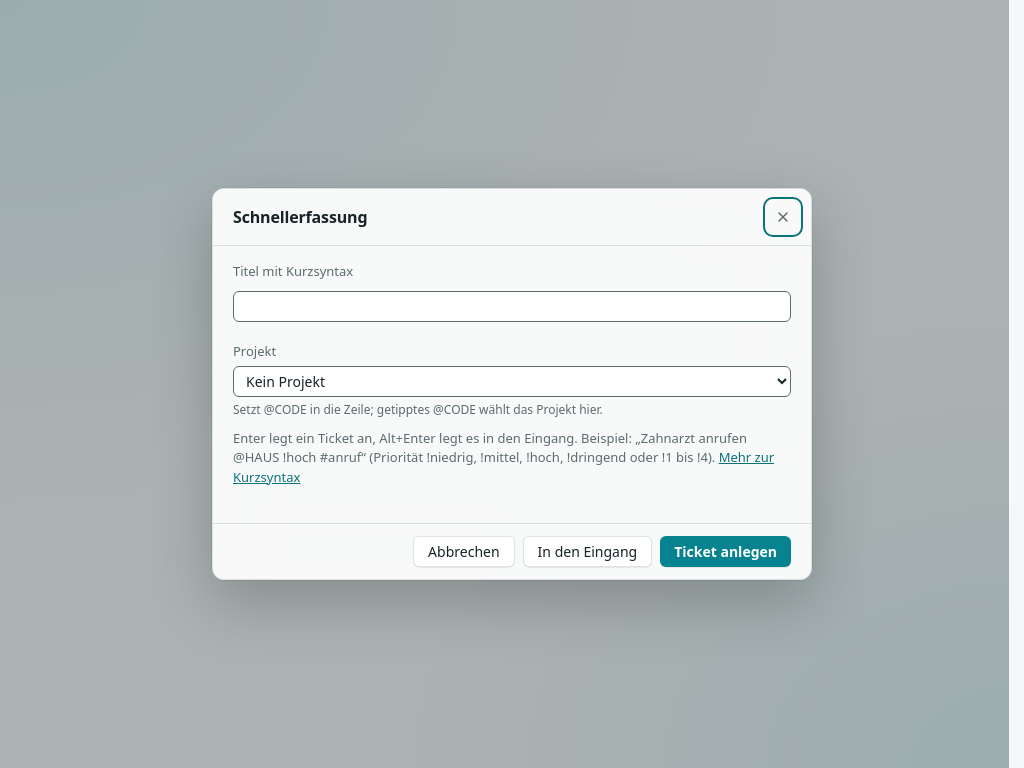
Test case: quick capture › names an archived project instead of failing
This screenshot has width=1024, height=768.
Type "Dach @ALT" into the field labelled "Titel mit Kurzsyntax". click: [512, 307]
box: [233,291,791,322]
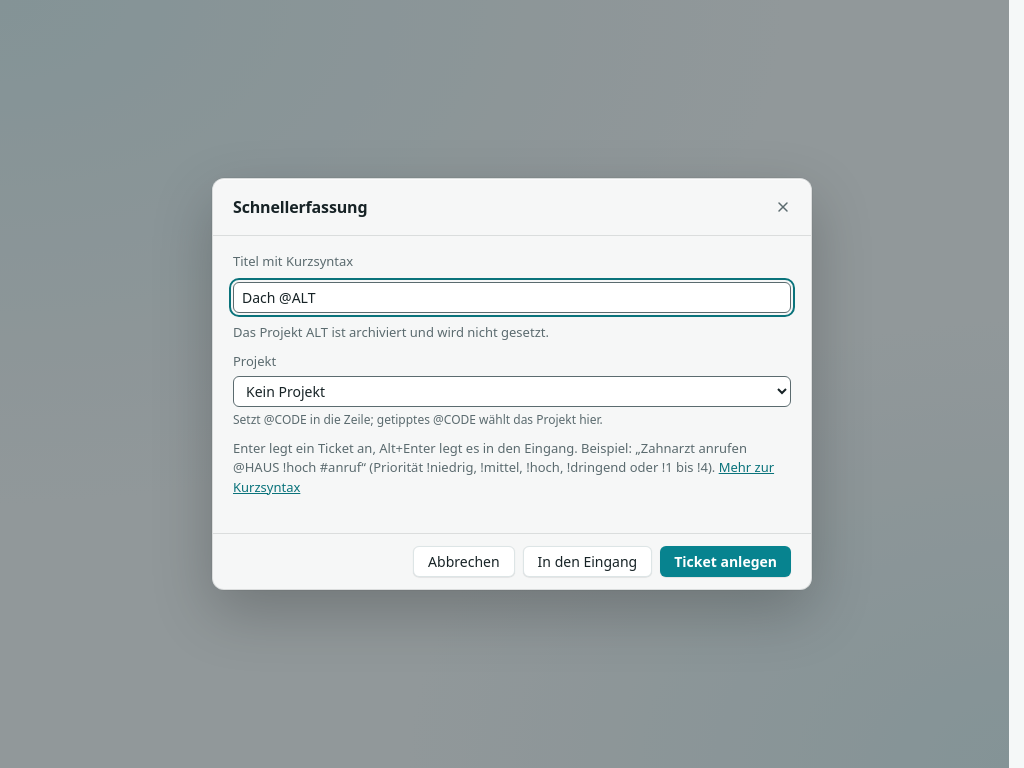
expect the text "Das Projekt ALT ist archiviert und wird nicht gesetzt." is shown: met, box [233,322,549,340]
